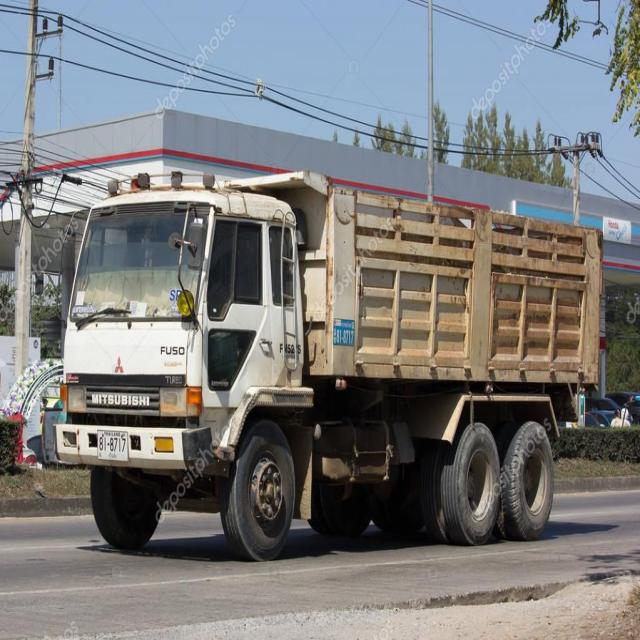truck: (51, 170, 598, 556)
